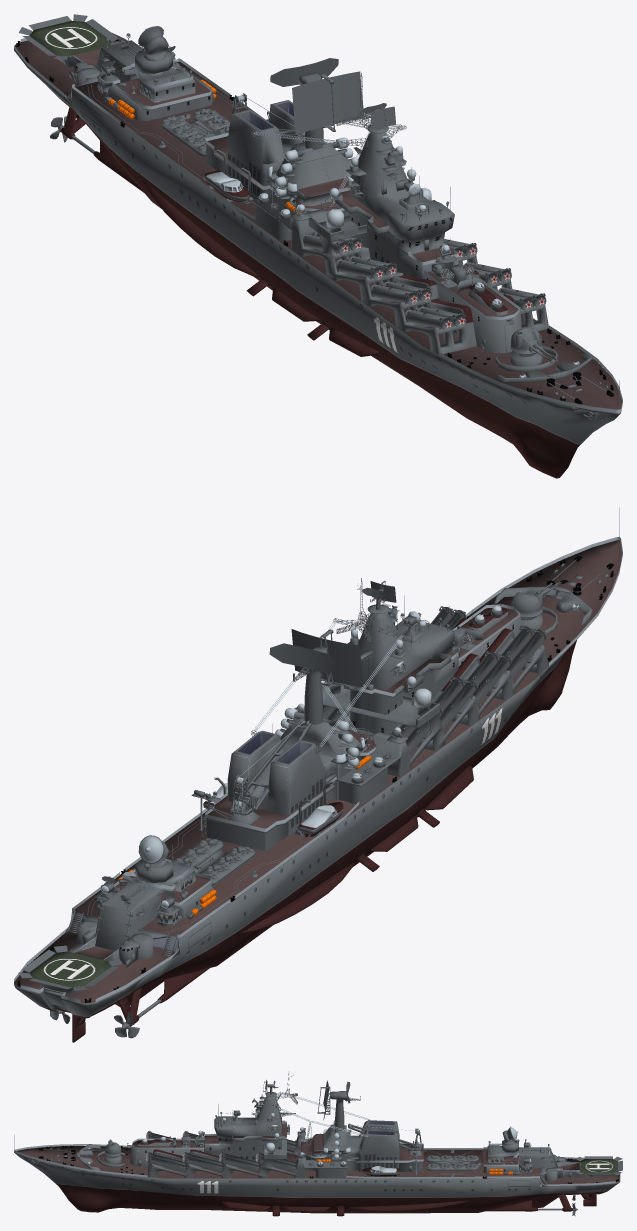
The model's file is RFSlava.glb.
3 views of the same model, one above another, from view 1: azimuth 30°, elevation 25°; view 2: azimuth 150°, elevation 25°; view 3: azimuth 270°, elevation 25° (orthographic). The views are drawn at different scales.
Visible parts, largest first — view 1: Object_22, Object_27, Object_28, Object_21, Object_9, Object_13, Object_25, Object_2, Object_14, Object_20, Object_4, Object_17 (+11 smaller); view 2: Object_22, Object_28, Object_21, Object_27, Object_9, Object_14, Object_2, Object_25, Object_13, Object_20, Object_18, Object_10 (+10 smaller); view 3: Object_22, Object_28, Object_27, Object_21, Object_2, Object_25, Object_13, Object_20, Object_9, Object_14, Object_10, Object_5 (+11 smaller).
Boxes of the visible parts, left/top/right/bottom form: Object_22: left=14, top=39, right=622, bottom=478; Object_27: left=335, top=132, right=521, bottom=353; Object_28: left=205, top=100, right=351, bottom=216; Object_21: left=14, top=26, right=622, bottom=412; Object_9: left=50, top=47, right=608, bottom=419; Object_13: left=97, top=46, right=548, bottom=356; Object_25: left=302, top=232, right=546, bottom=330; Object_2: left=29, top=20, right=472, bottom=280; Object_14: left=18, top=14, right=619, bottom=417; Object_20: left=142, top=170, right=513, bottom=356; Object_4: left=56, top=55, right=475, bottom=275; Object_17: left=66, top=26, right=557, bottom=363; Object_22: left=14, top=540, right=622, bottom=1042; Object_28: left=205, top=716, right=376, bottom=851; Object_21: left=14, top=536, right=622, bottom=1002; Object_27: left=333, top=607, right=521, bottom=734; Object_9: left=43, top=538, right=618, bottom=1038; Object_14: left=18, top=507, right=620, bottom=1017; Object_2: left=29, top=632, right=475, bottom=994; Object_25: left=323, top=606, right=546, bottom=754; Object_13: left=96, top=590, right=548, bottom=927; Object_20: left=204, top=608, right=512, bottom=934; Object_18: left=78, top=712, right=369, bottom=962; Object_10: left=237, top=540, right=619, bottom=834; Object_22: left=14, top=1146, right=620, bottom=1213; Object_28: left=301, top=1120, right=423, bottom=1172; Object_27: left=130, top=1096, right=289, bottom=1168; Object_21: left=14, top=1092, right=620, bottom=1186; Object_2: left=183, top=1134, right=617, bottom=1177; Object_25: left=146, top=1131, right=296, bottom=1171; Object_13: left=104, top=1124, right=532, bottom=1178; Object_20: left=137, top=1139, right=469, bottom=1216; Object_9: left=29, top=1080, right=577, bottom=1216; Object_14: left=32, top=1119, right=622, bottom=1210; Object_10: left=127, top=1096, right=417, bottom=1178; Object_5: left=153, top=1135, right=347, bottom=1174.
Bounding box in the file's own units: 0.1933 × 0.3814 × 1.5.
Materials: 10 (10 with a texture image).
